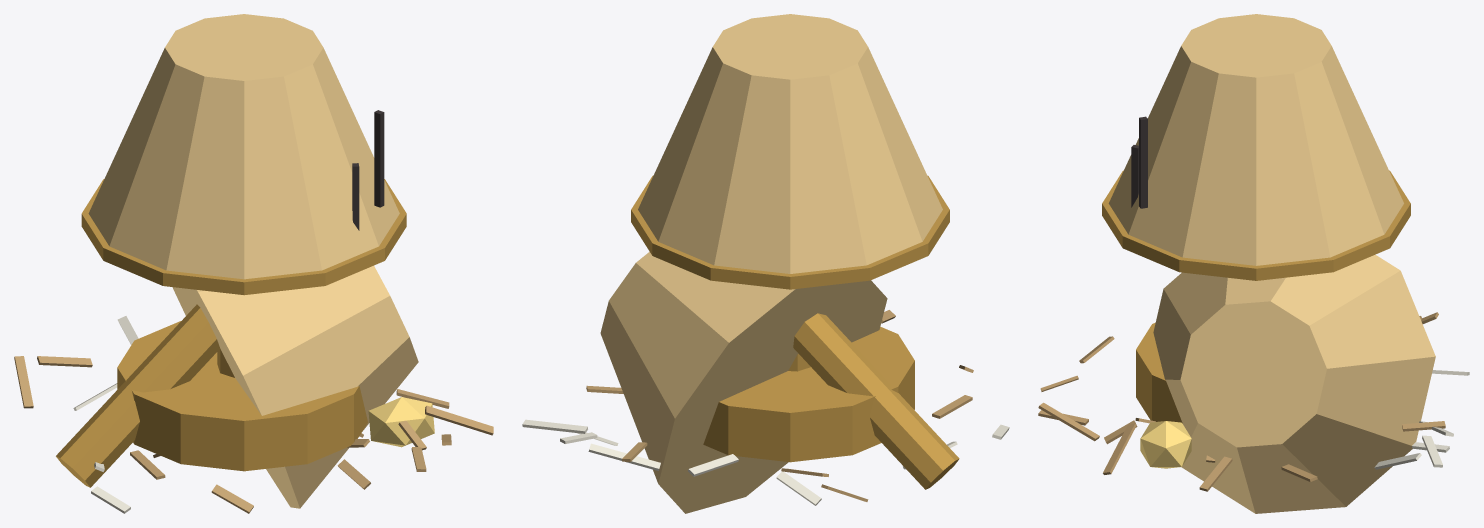
Rendered from sm_cargo_content_antique_lamp.glb.
3 renders of one model, left to right at view 1: azimuth 30°, elevation 25°; view 2: azimuth 150°, elevation 25°; view 3: azimuth 270°, elevation 25°, orthographic. The views are drawn at different scales.
Parts seen in each view (by area): view 1: Intact, Ruined, Filler, Damage; view 2: Intact, Ruined, Filler; view 3: Intact, Ruined, Filler, Damage.
Boxes of the visible parts, <box> form: Intact: <box>81,14,406,471</box>; Ruined: <box>56,265,434,508</box>; Filler: <box>14,316,493,513</box>; Damage: <box>352,110,384,230</box>; Intact: <box>631,14,949,462</box>; Ruined: <box>600,252,959,513</box>; Filler: <box>522,310,1009,505</box>; Intact: <box>1102,14,1410,423</box>; Ruined: <box>1140,254,1435,513</box>; Filler: <box>1038,312,1469,491</box>; Damage: <box>1131,116,1147,208</box>.
Bounding box in the file's own units: 0.5301 × 0.6548 × 0.5727.
